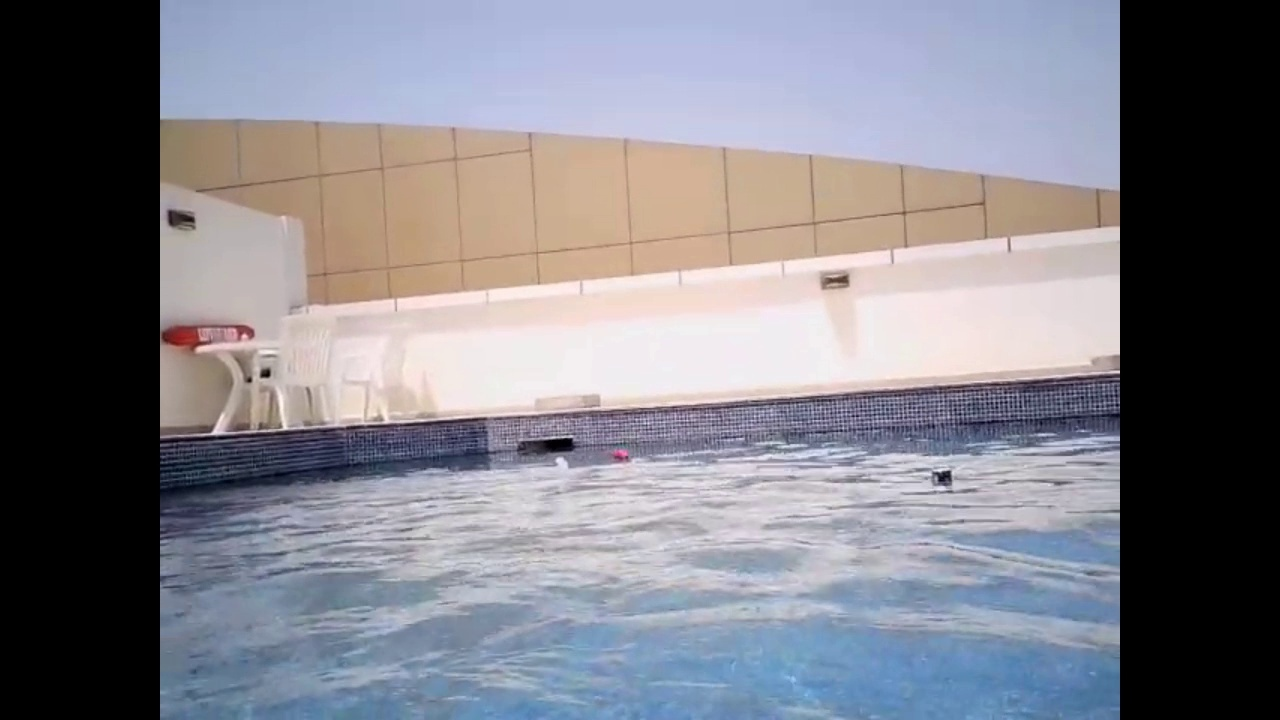debris: (927, 462, 955, 491), (606, 446, 638, 467), (548, 451, 573, 475)
